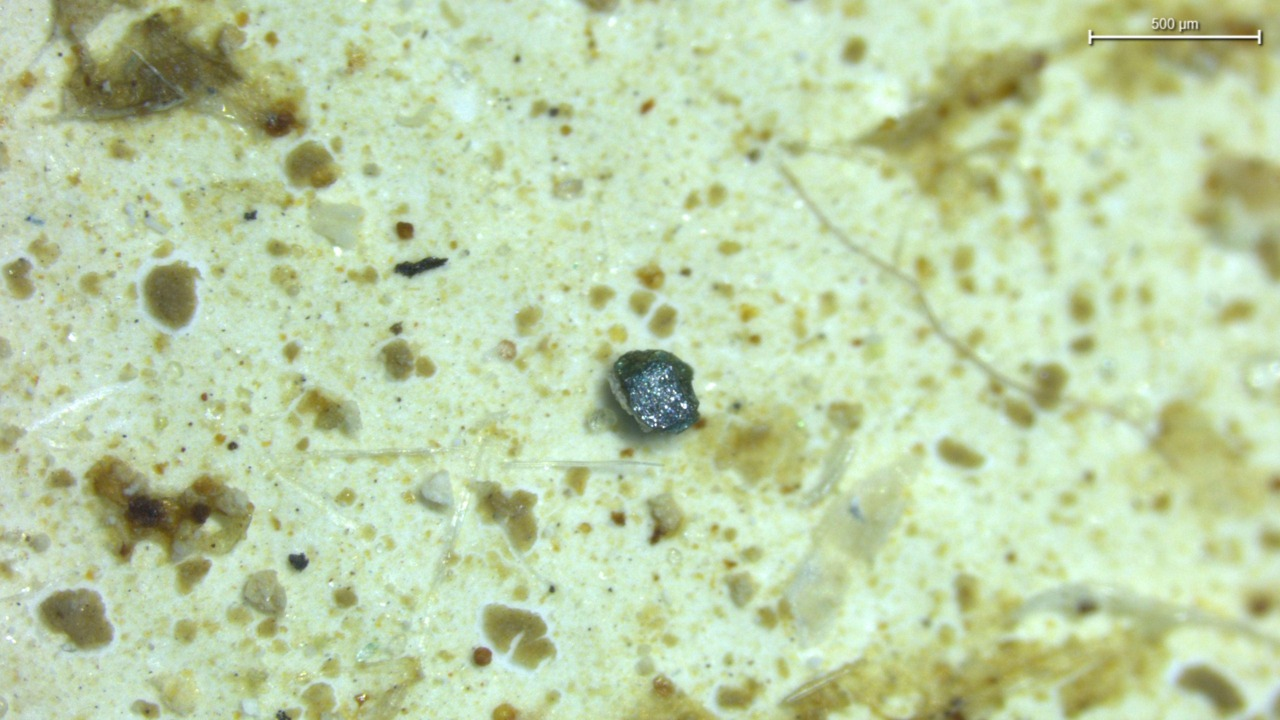microplastic_fragment: (610, 350, 698, 433), (310, 197, 363, 248), (242, 570, 286, 618), (419, 472, 453, 507)
